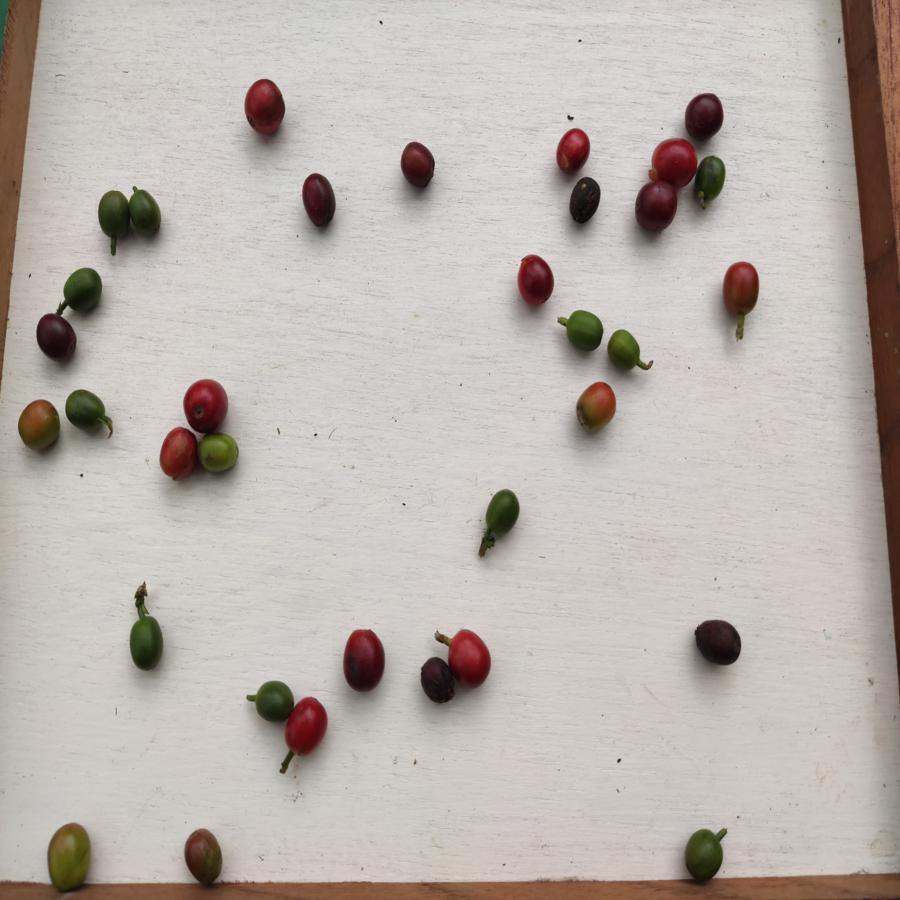Inmaduro: (126, 608, 167, 673), (679, 824, 724, 883), (62, 384, 112, 437), (483, 489, 526, 543), (60, 266, 105, 316), (96, 188, 134, 245), (129, 186, 166, 242), (250, 679, 294, 724), (564, 305, 604, 354), (197, 431, 243, 473), (693, 154, 732, 202), (609, 324, 643, 373)
Maduro: (447, 627, 496, 687), (180, 376, 231, 431), (287, 695, 329, 761), (244, 77, 289, 135), (721, 260, 764, 319), (517, 252, 559, 311), (157, 426, 198, 485), (649, 134, 696, 184), (553, 126, 590, 174)
Pinton: (45, 818, 94, 888), (181, 824, 230, 884), (16, 396, 63, 454), (576, 379, 617, 436)
Sobremaduro: (341, 625, 388, 699), (631, 178, 681, 234), (694, 615, 744, 670), (299, 171, 342, 231), (35, 310, 78, 364), (397, 139, 440, 190), (418, 656, 454, 707), (568, 175, 603, 225)
